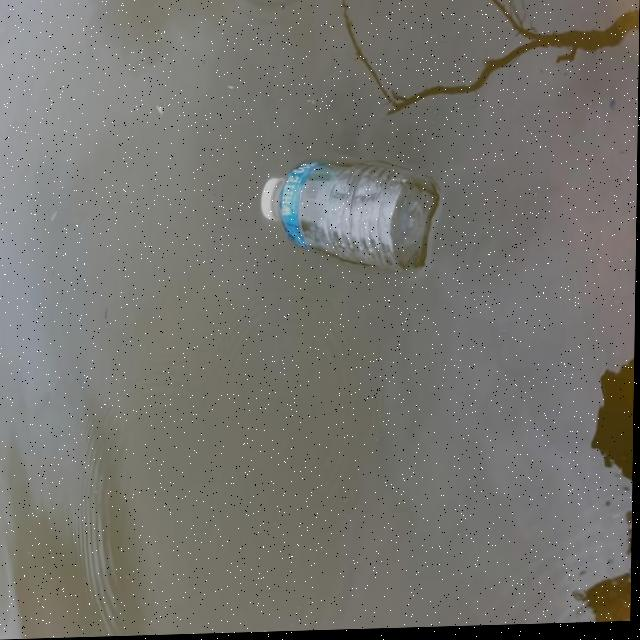waterbottle: (219, 148, 453, 284)
